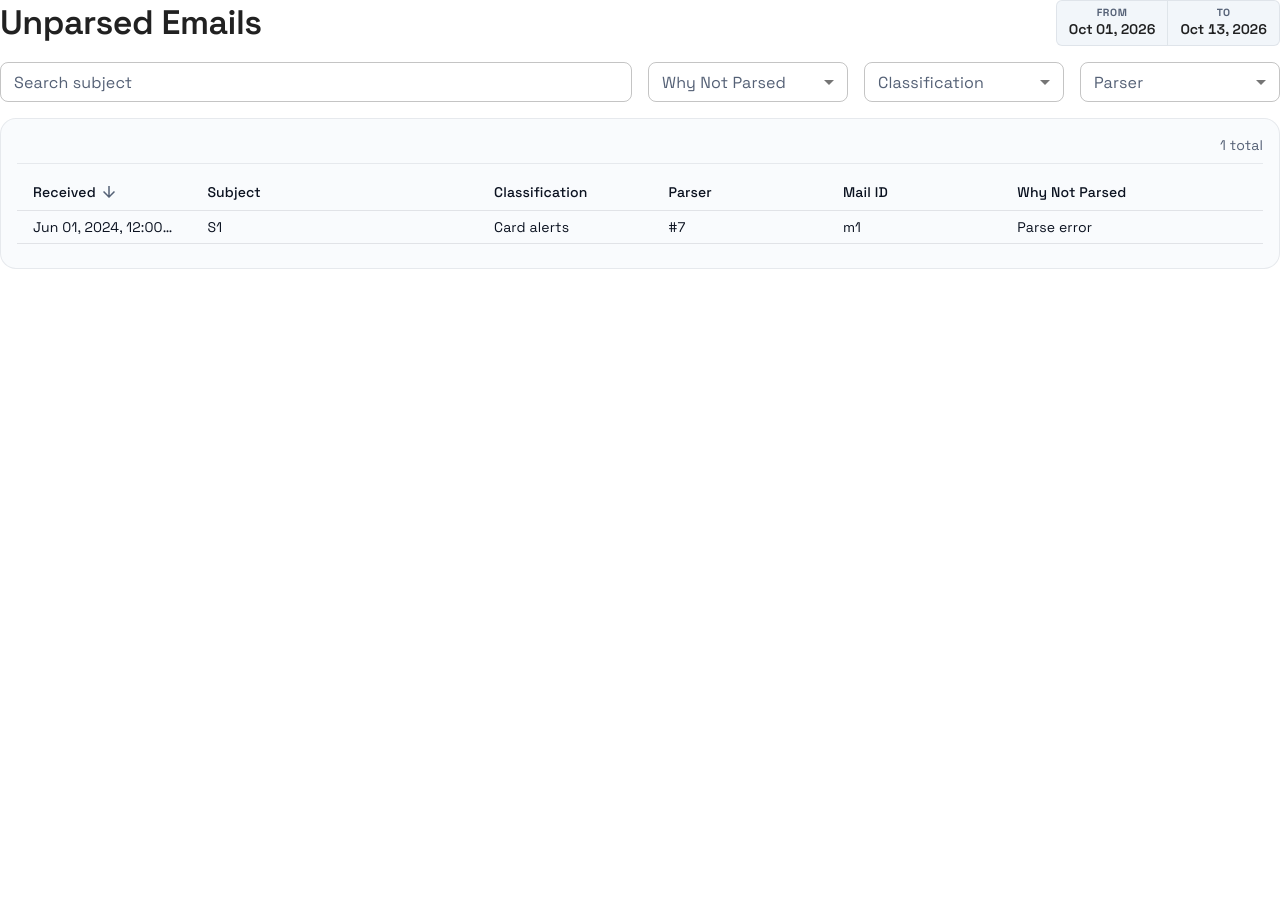
it: UnparsedEmails › lists unparsed rows and opens details on click
Expected: the text "m1" is shown, [827,210,1001,243]
Expected: the text "Card alerts" is shown, [478,210,652,243]
Click the button with aria-label "View unparsed queue item 1". click: (640, 227)
box: [17,210,1263,243]
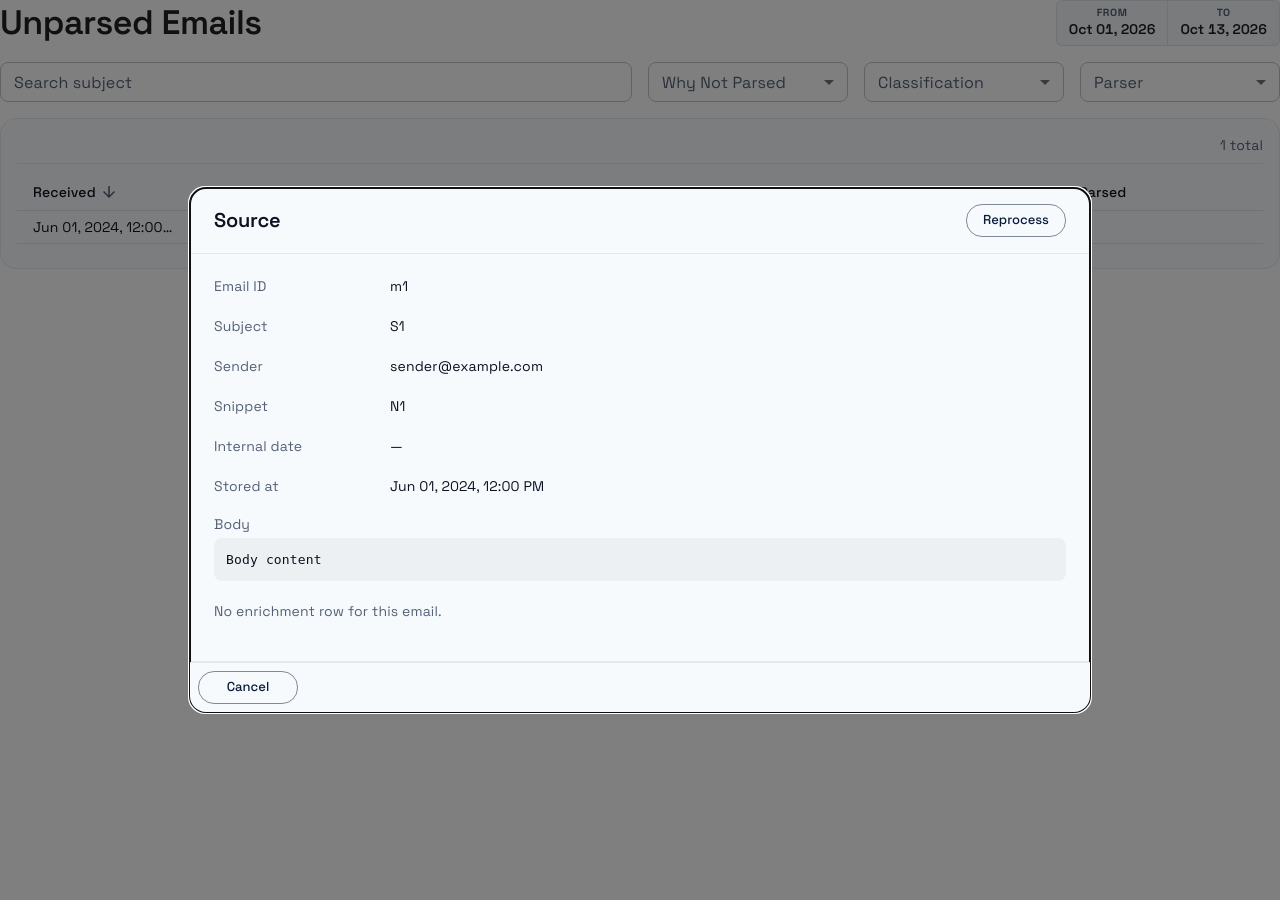
Expected: the text "sender@example.com" is shown, [390,356,543,376]
Expected: the text "Body content" is shown, [214,538,1066,581]
Expected: the text "No enrichment row for this email." is shown, [214,602,442,620]
